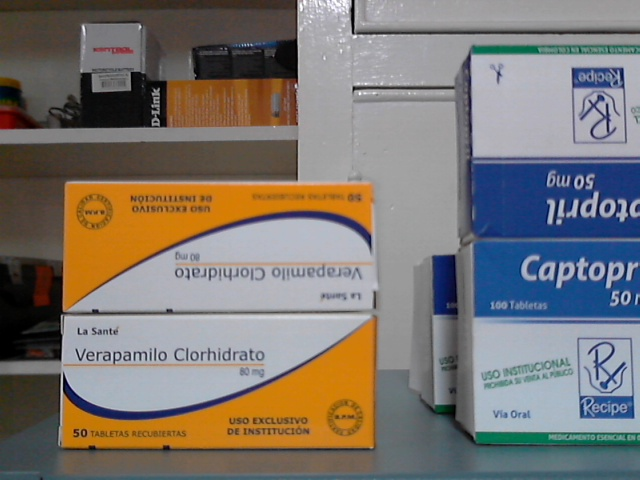LaSante: (64, 180, 377, 315), (64, 317, 373, 449)
